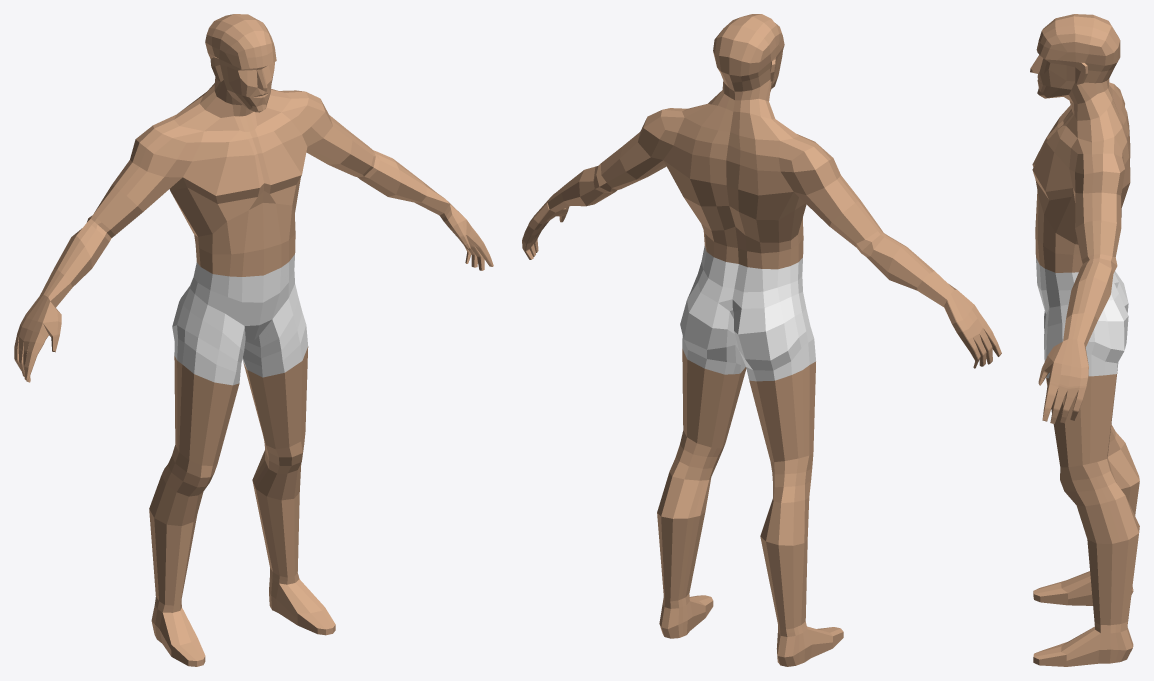
Rendered from character-EG5FN-Hq.glb.
The picture shows the model from 3 angles, left to right: view 1: azimuth 30°, elevation 25°; view 2: azimuth 150°, elevation 25°; view 3: azimuth 270°, elevation 25°; orthographic projection.
Parts seen in each view (by area): view 1: Base H; view 2: Base H; view 3: Base H.
Boxes of the visible parts, x1,y1,x2,y2 form: Base H: [14, 14, 493, 666]; Base H: [522, 14, 1001, 666]; Base H: [1030, 14, 1139, 666].
Bounding box in the file's own units: 2.01 × 2.53 × 0.411.
